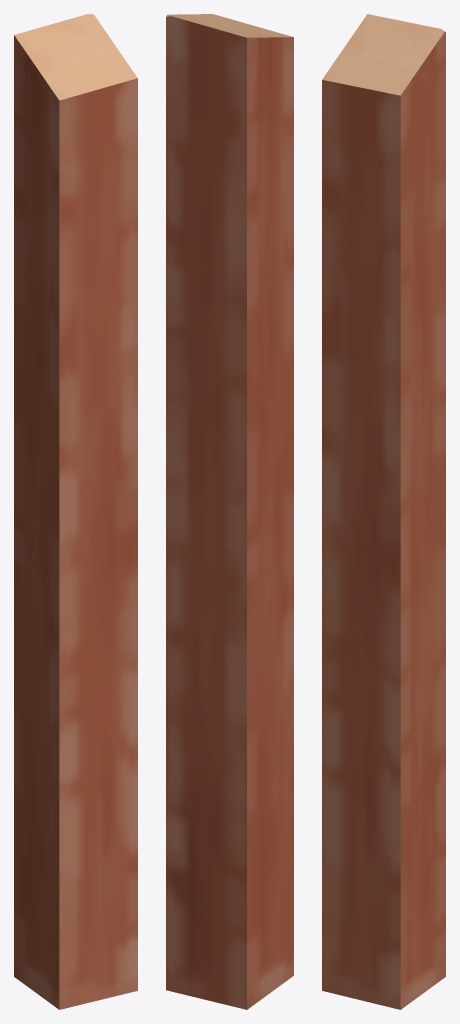
File: pergola_s04.fbx
The picture shows the model from 3 angles, left to right: view 1: azimuth 30°, elevation 25°; view 2: azimuth 150°, elevation 25°; view 3: azimuth 330°, elevation 25°; orthographic projection. The views are drawn at different scales.
Visible parts, largest first — view 1: pergola_s04; view 2: pergola_s04; view 3: pergola_s04.
Part boxes in pixels (box(x1,y1,x2,y2)): pergola_s04: box(14, 14, 137, 1009); pergola_s04: box(166, 14, 293, 1009); pergola_s04: box(322, 14, 445, 1009).
Bounding box in the file's own units: 0.4 × 4.6 × 0.4.
